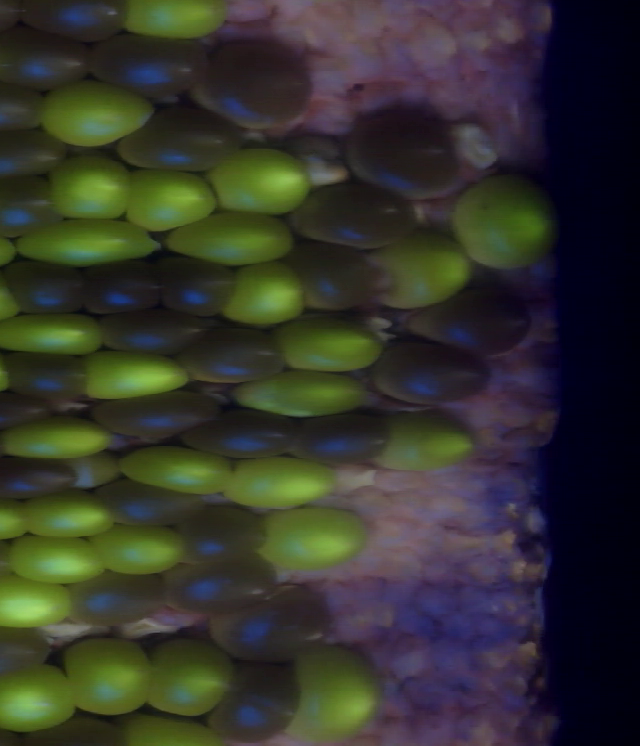fluorescent: (443, 163, 562, 276), (280, 641, 389, 746), (363, 223, 479, 319), (34, 75, 159, 151), (55, 628, 158, 720), (205, 140, 319, 222), (145, 632, 243, 726), (13, 211, 168, 270), (255, 501, 374, 577), (38, 146, 143, 229), (119, 163, 228, 240), (113, 438, 242, 503), (233, 365, 380, 422), (275, 309, 391, 379), (374, 406, 481, 480), (223, 449, 344, 514), (73, 343, 195, 406), (218, 256, 315, 330), (89, 520, 194, 582), (7, 529, 112, 589), (0, 655, 79, 734), (0, 307, 111, 363), (0, 407, 113, 461), (17, 484, 118, 543), (119, 1, 236, 45), (0, 572, 80, 633), (0, 490, 31, 545)
nonfluorescent: (195, 39, 327, 131), (342, 103, 465, 201), (204, 579, 329, 669), (113, 98, 251, 179), (408, 280, 544, 359), (369, 331, 501, 410), (291, 179, 425, 255), (203, 653, 311, 745), (85, 25, 215, 101), (87, 384, 230, 444), (164, 547, 289, 615), (175, 404, 315, 464), (176, 321, 291, 388), (276, 407, 398, 469), (95, 301, 219, 361), (283, 239, 383, 313), (171, 502, 279, 567), (0, 24, 98, 95), (61, 570, 175, 629), (86, 477, 215, 529), (75, 256, 175, 320), (152, 250, 243, 319), (0, 254, 94, 320), (0, 346, 98, 405), (14, 1, 136, 47), (0, 169, 73, 240), (0, 449, 85, 504), (0, 126, 78, 185), (0, 619, 60, 688), (0, 74, 58, 135), (0, 385, 65, 436)
